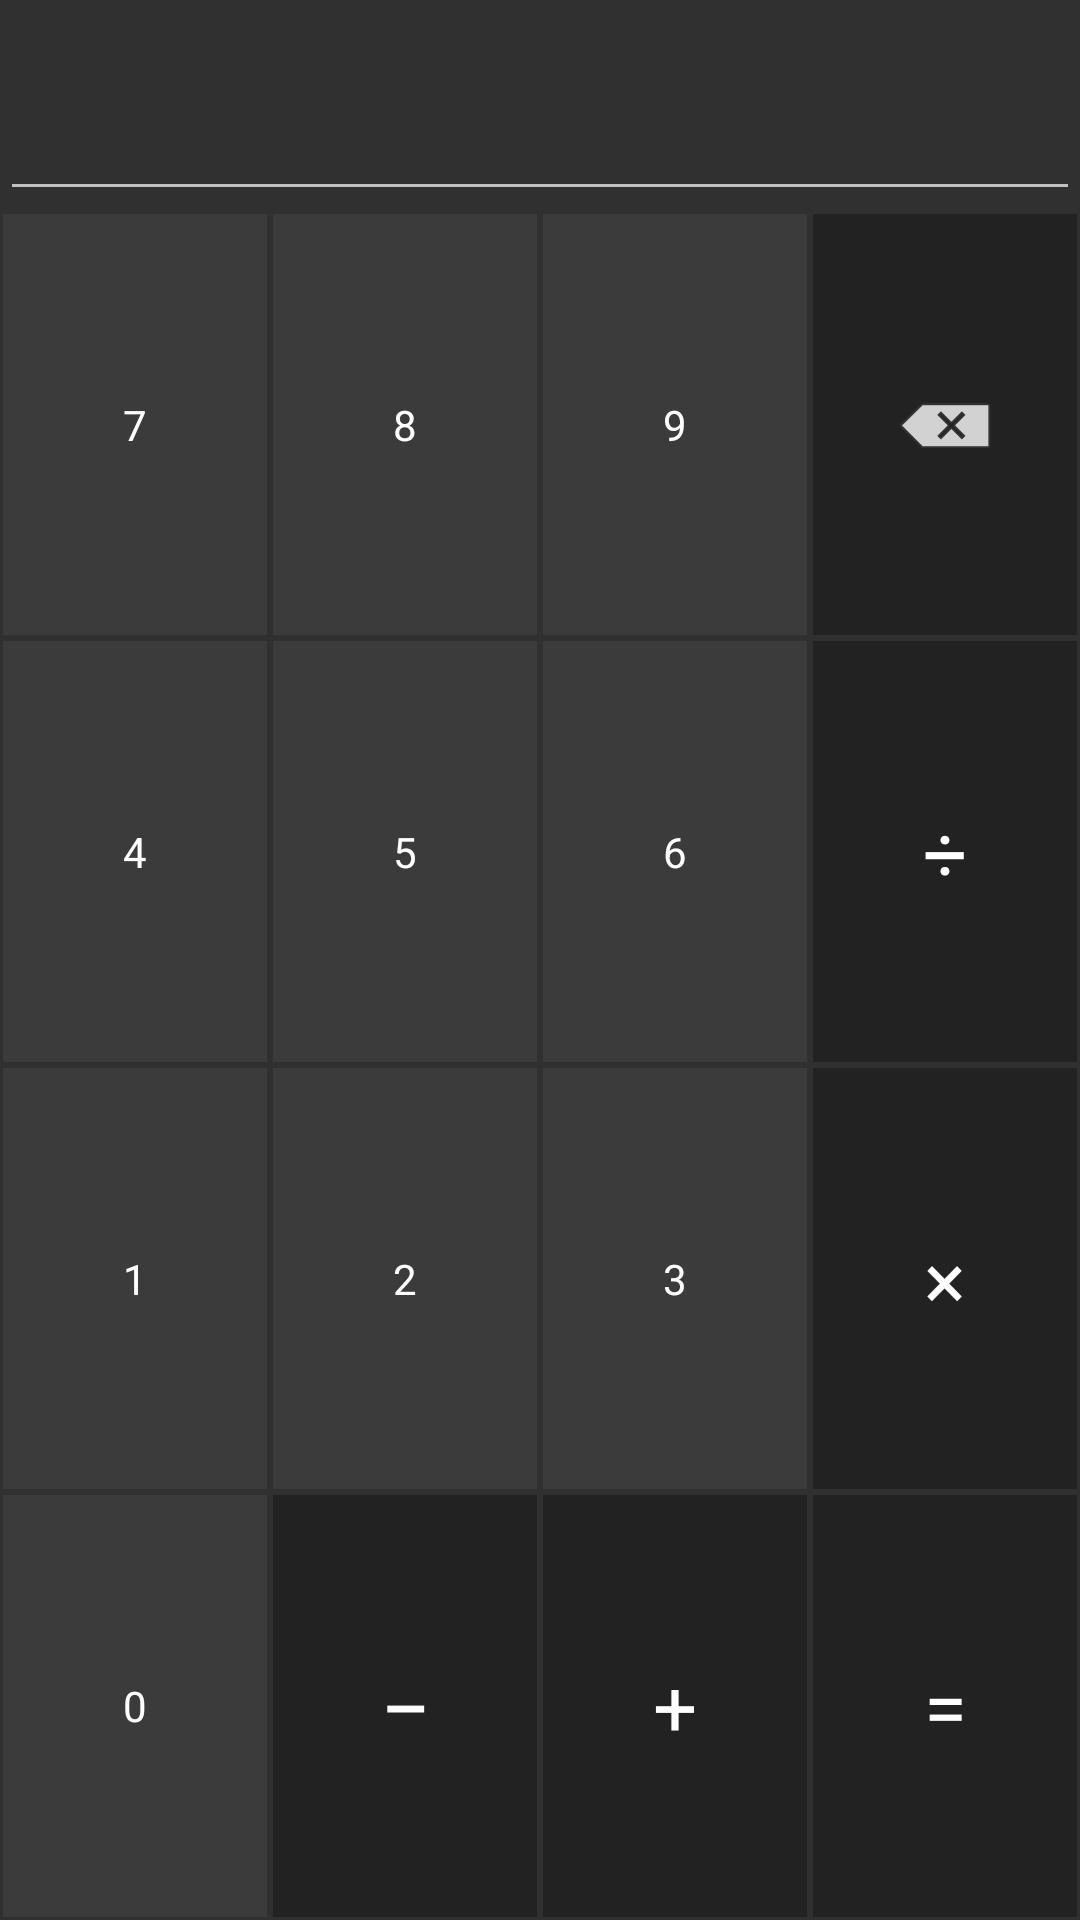

Named icons in this screenshot (1080x1920) and their bounding boxes, detection(x1, y1, x2, y2):
delete: detection(902, 405, 989, 447)
